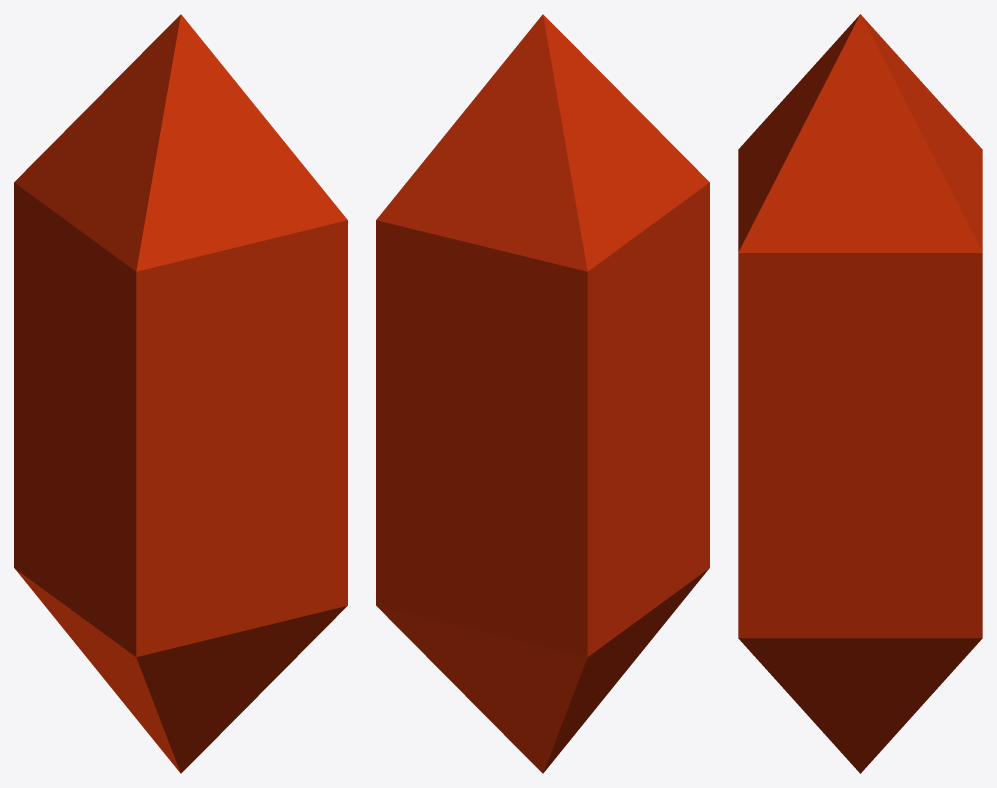
File: treasure3ButtonText.obj
3 views of the same model, side by side, from view 1: azimuth 30°, elevation 25°; view 2: azimuth 150°, elevation 25°; view 3: azimuth 270°, elevation 25° (orthographic).
Parts seen in each view (by area): view 1: treasure3ButtonText; view 2: treasure3ButtonText; view 3: treasure3ButtonText.
Boxes of the visible parts, left/top/right/bottom form: treasure3ButtonText: left=14, top=14, right=347, bottom=773; treasure3ButtonText: left=376, top=14, right=709, bottom=773; treasure3ButtonText: left=738, top=14, right=982, bottom=773.
Size of the model in its own units: 0.2169 by 0.7443 by 0.2169.
